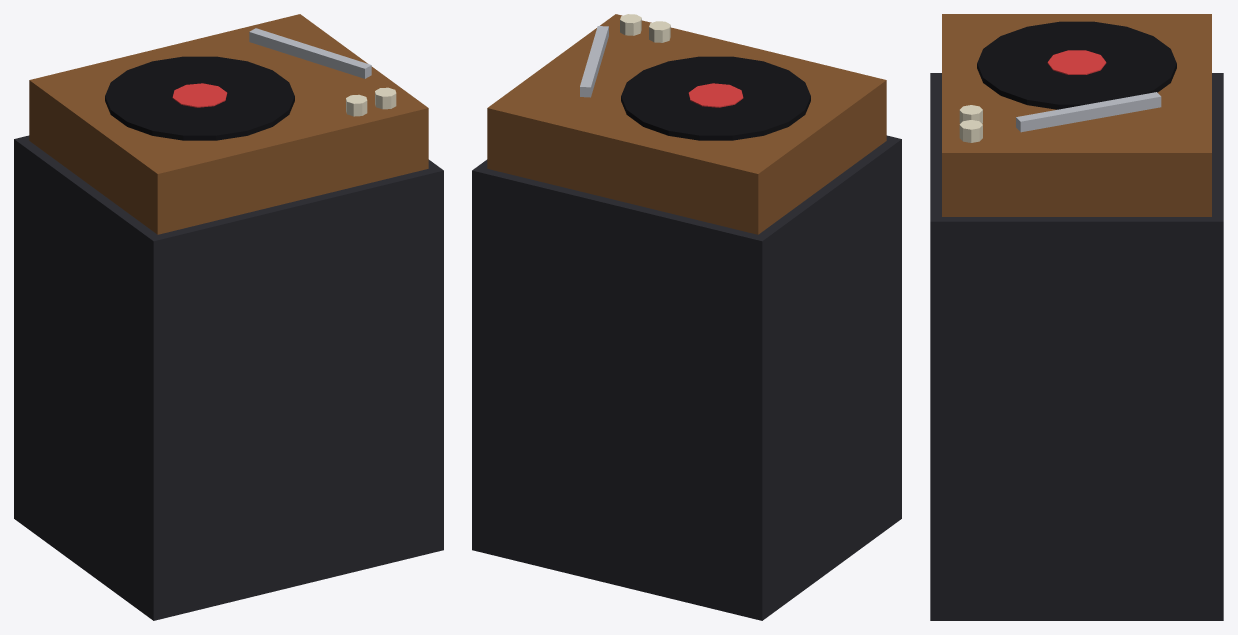
Rendered from record_player.glb.
3 renders of one model, left to right at view 1: azimuth 30°, elevation 25°; view 2: azimuth 150°, elevation 25°; view 3: azimuth 270°, elevation 25°, orthographic. The views are drawn at different scales.
Parts seen in each view (by area): view 1: table_player_table, box_player_wood, disc_vinyl, arm_player_arm, label_disc_label; view 2: table_player_table, box_player_wood, disc_vinyl, label_disc_label, arm_player_arm; view 3: table_player_table, box_player_wood, disc_vinyl, arm_player_arm, label_disc_label, knobs_player_knob.
Boxes of the visible parts, left/top/right/bottom form: table_player_table: left=14, top=135, right=443, bottom=620; box_player_wood: left=29, top=14, right=428, bottom=234; disc_vinyl: left=105, top=56, right=294, bottom=140; arm_player_arm: left=249, top=28, right=371, bottom=78; label_disc_label: left=172, top=83, right=227, bottom=107; table_player_table: left=472, top=135, right=901, bottom=620; box_player_wood: left=487, top=14, right=886, bottom=234; disc_vinyl: left=621, top=56, right=810, bottom=140; label_disc_label: left=688, top=83, right=743, bottom=107; arm_player_arm: left=580, top=26, right=608, bottom=97; table_player_table: left=930, top=73, right=1223, bottom=620; box_player_wood: left=942, top=14, right=1211, bottom=216; disc_vinyl: left=977, top=21, right=1176, bottom=109; arm_player_arm: left=1016, top=92, right=1161, bottom=132; label_disc_label: left=1047, top=50, right=1106, bottom=74; knobs_player_knob: left=959, top=120, right=982, bottom=142.
Bounding box in the file's own units: 0.6 × 0.91 × 0.5.
